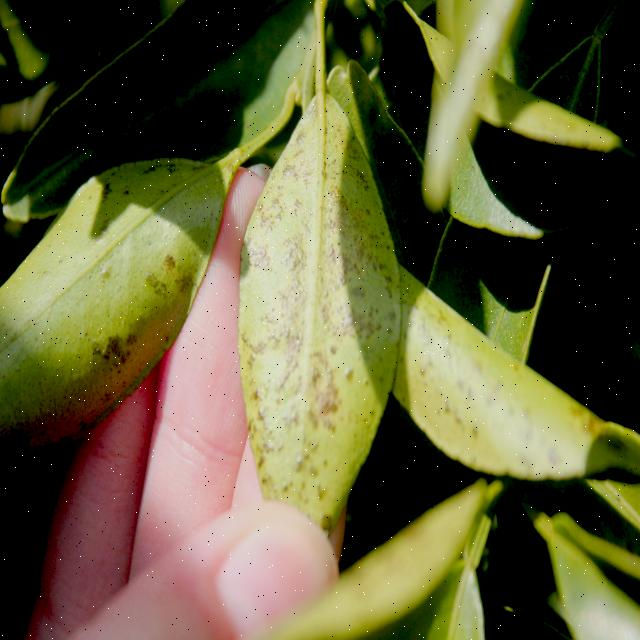melanose: (0, 139, 241, 455), (240, 80, 396, 518), (397, 268, 614, 491)
